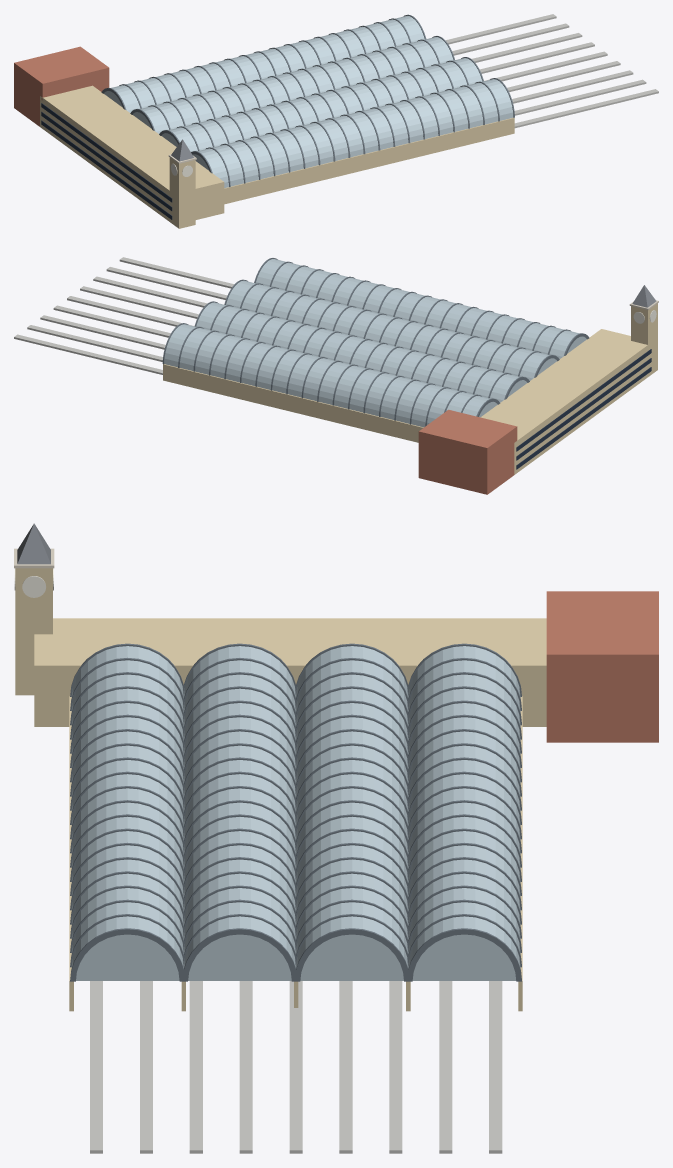
Rendered from terminal_liverpool-street.glb.
3 views of the same model, one above another, from view 1: azimuth 30°, elevation 25°; view 2: azimuth 150°, elevation 25°; view 3: azimuth 270°, elevation 25° (orthographic). The views are drawn at different scales.
Parts seen in each view (by area): view 1: liverpool-street; view 2: liverpool-street; view 3: liverpool-street.
Boxes of the visible parts, <box> form: liverpool-street: <box>14,14,658,228</box>; liverpool-street: <box>14,257,658,494</box>; liverpool-street: <box>14,523,658,1153</box>.
Bounding box in the file's own units: 300 × 48.4 × 172.
